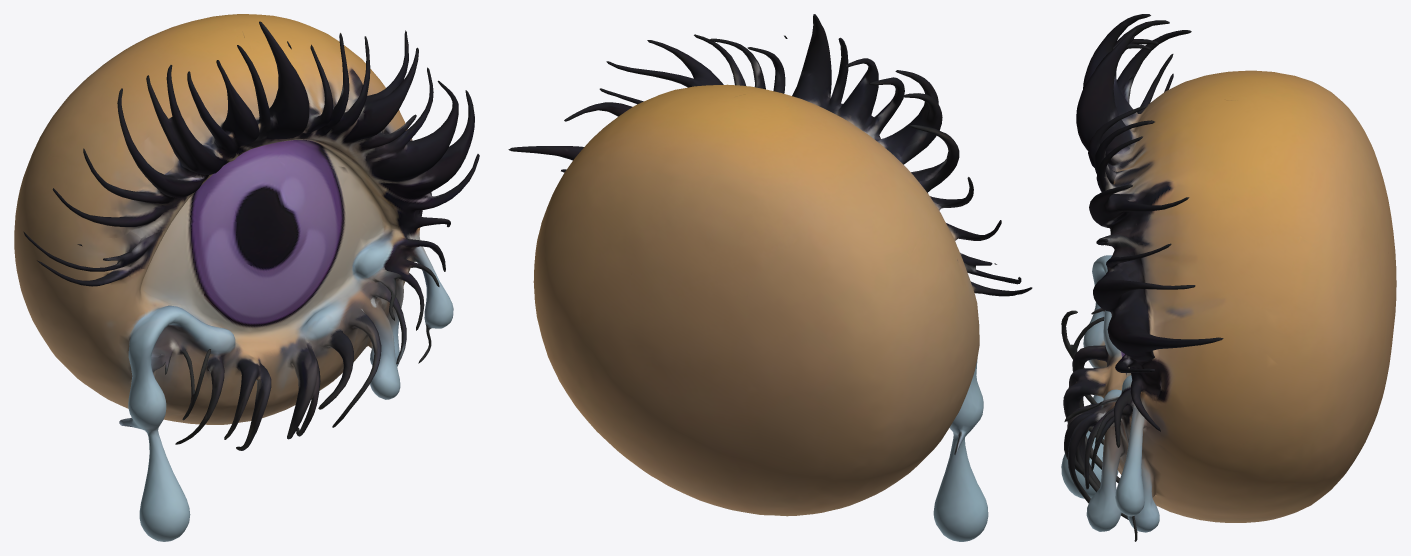
Rendered from Keyhole_Specter.glb.
3 views of the same model, side by side, from view 1: azimuth 30°, elevation 25°; view 2: azimuth 150°, elevation 25°; view 3: azimuth 270°, elevation 25° (orthographic). The views are drawn at different scales.
Visible parts, largest first — view 1: CryingEye; view 2: CryingEye; view 3: CryingEye.
Boxes of the visible parts, bbox=[...] form: CryingEye: bbox=[14, 14, 479, 541]; CryingEye: bbox=[508, 14, 1032, 541]; CryingEye: bbox=[1061, 14, 1396, 541].
Size of the model in its own units: 0.15 by 0.1481 by 0.0846.
1 material, 1 textured.
